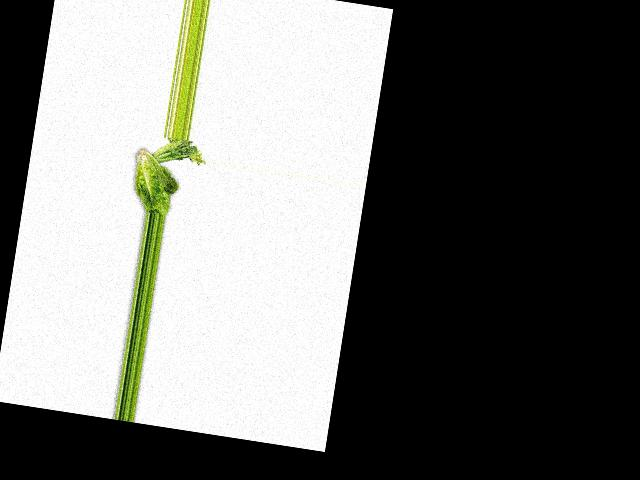lettuce: (130, 145, 188, 218)
